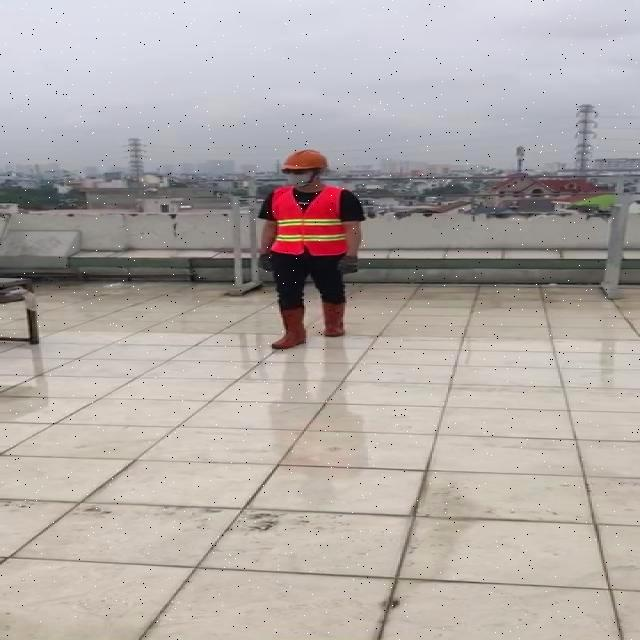Hard_hat: (278, 146, 334, 175)
Vest: (274, 184, 351, 258)
